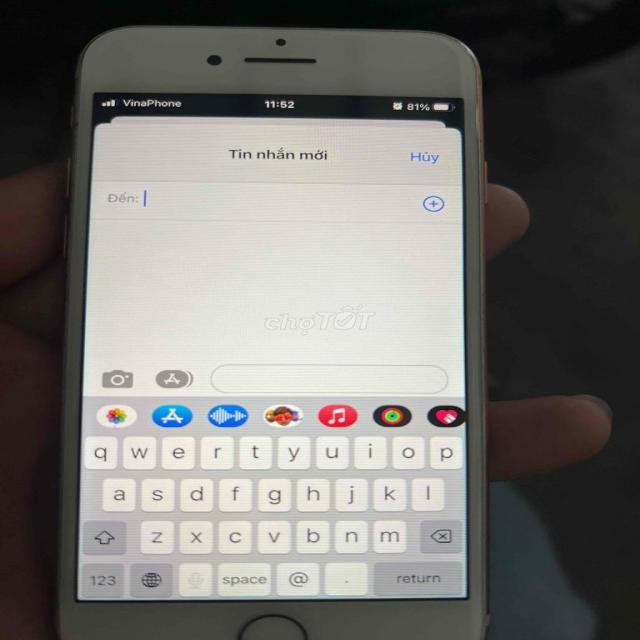gen_7_8: (58, 26, 488, 639)
